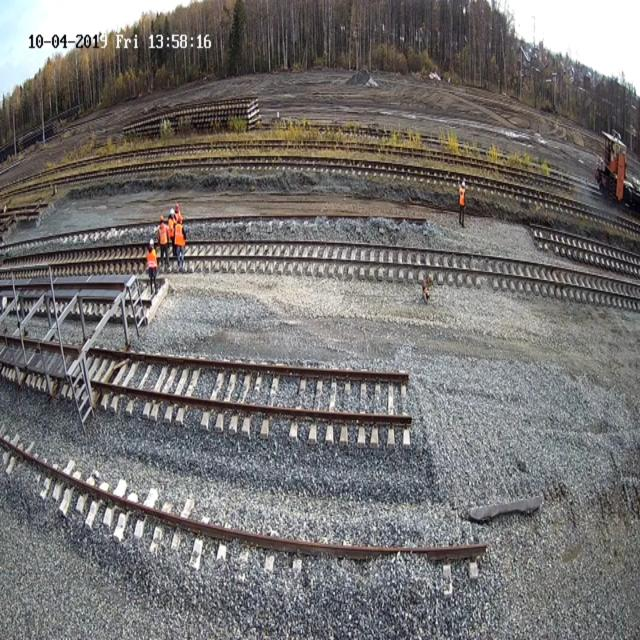Helmet: (149, 238, 154, 246)
Person: (154, 200, 189, 262), (146, 238, 158, 295), (458, 179, 466, 228)
